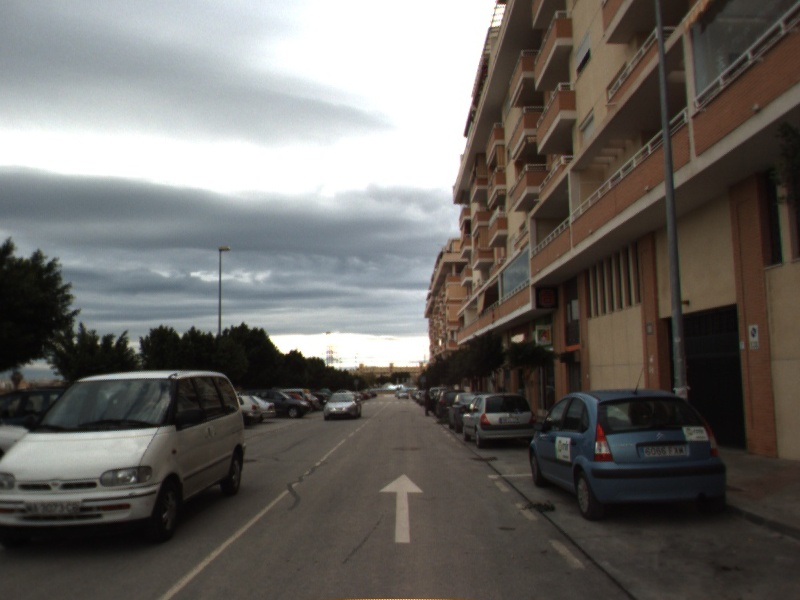STRAIGHT: (377, 471, 426, 545)
